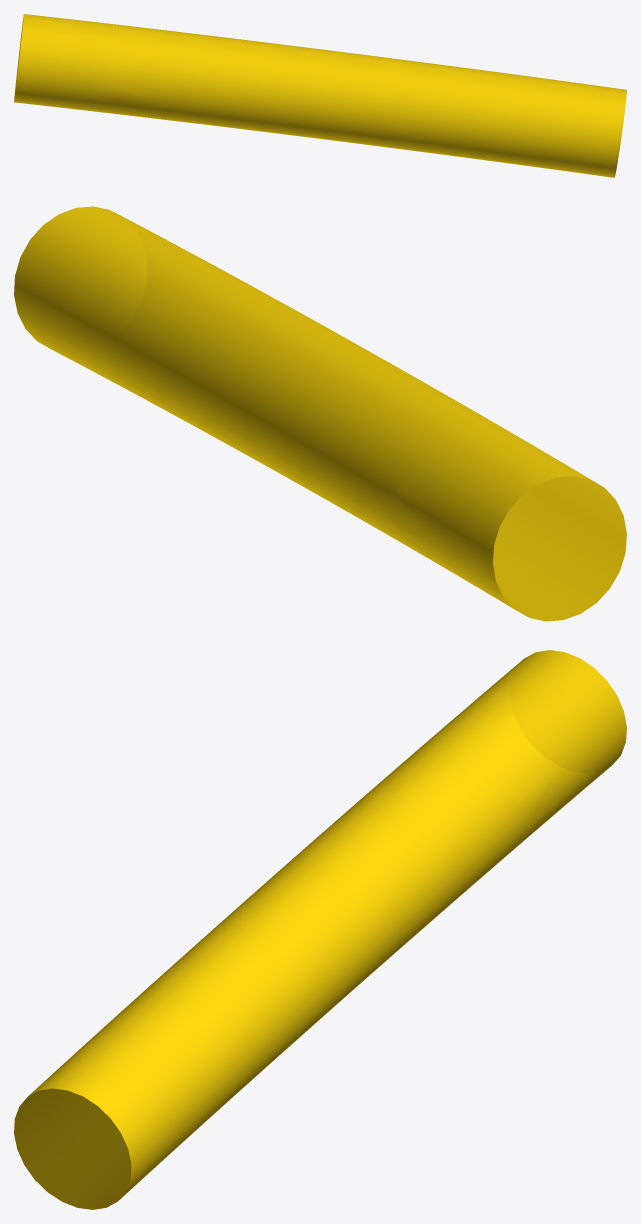
The model's file is Event_420094457_track_36.fbx.
3 renders of one model, top to bottom at view 1: azimuth 30°, elevation 25°; view 2: azimuth 150°, elevation 25°; view 3: azimuth 270°, elevation 25°, orthographic. The views are drawn at different scales.
Visible parts, largest first — view 1: Model; view 2: Model; view 3: Model.
Boxes of the visible parts, left/top/right/bottom form: Model: left=14, top=14, right=626, bottom=177; Model: left=14, top=206, right=626, bottom=621; Model: left=14, top=650, right=626, bottom=1209.
Size of the model in its own units: 0.2502 by 0.0726 by 0.1772.
